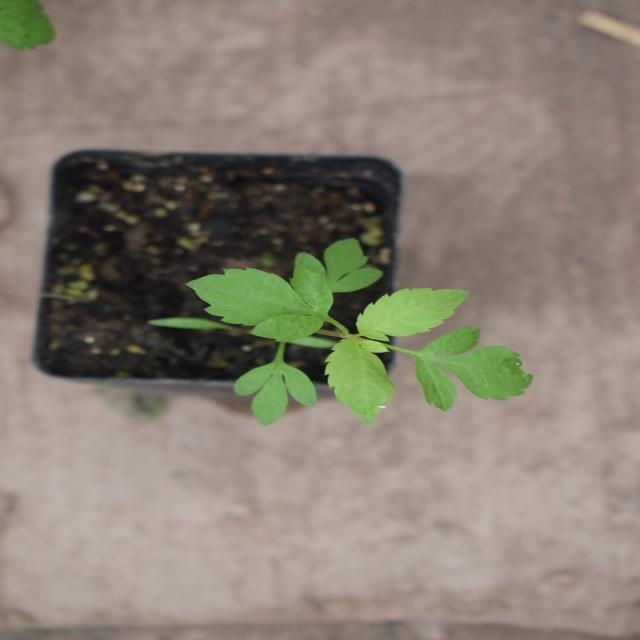Bidens pilosa: (204, 156, 412, 555)
